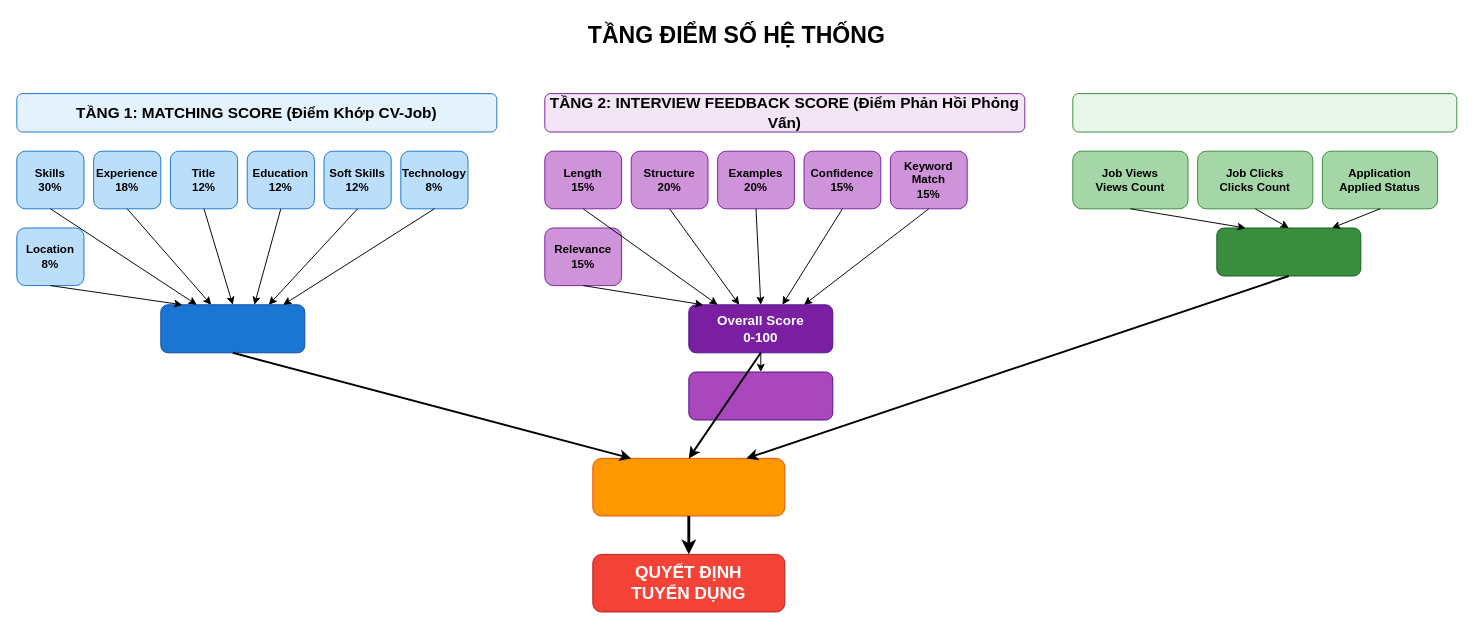
Some shapes in this 1474 by 629 pixel diagram are drawn without their labels. Here are the shapes that lost their labels. From the top down, the box of each, then its label:
(1072, 93, 1457, 132): TẦNG 3: ENGAGEMENT SCORE (Điểm Tương Tác/Hành Vi)
(1216, 227, 1361, 276): Engagement Metrics
(160, 304, 305, 353): Match Score 0-100
(688, 371, 833, 420): Recommendation HIRE / MAYBE / NO
(592, 457, 785, 516): TỔNG HỢP ĐÁNH GIÁ ỨNG VIÊN
